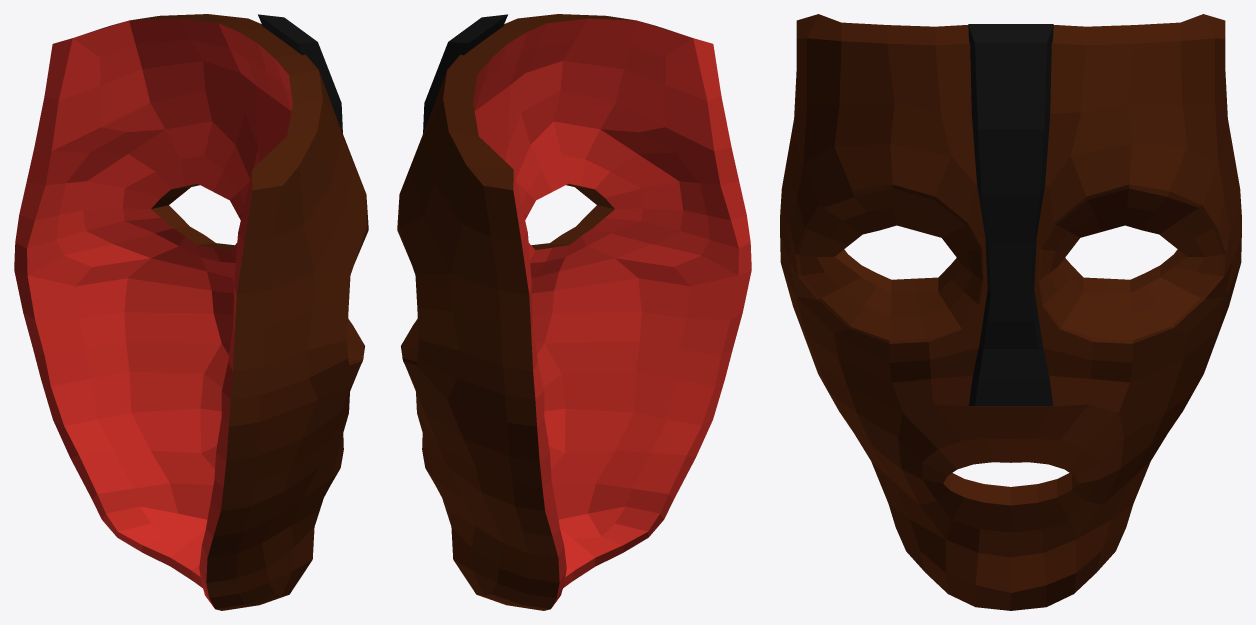
The picture shows the model from 3 angles, left to right: view 1: azimuth 30°, elevation 25°; view 2: azimuth 150°, elevation 25°; view 3: azimuth 270°, elevation 25°; orthographic projection. The views are drawn at different scales.
Visible parts, largest first — view 1: MASK_Cube.001 (×2), METAL_Cube; view 2: MASK_Cube.001 (×2), METAL_Cube; view 3: MASK_Cube.001, METAL_Cube.
Part boxes in pixels (left/top/right/bottom): MASK_Cube.001 (×2): left=14, top=14, right=368, bottom=610; METAL_Cube: left=258, top=14, right=342, bottom=133; MASK_Cube.001 (×2): left=397, top=14, right=751, bottom=610; METAL_Cube: left=423, top=14, right=507, bottom=133; MASK_Cube.001: left=780, top=14, right=1241, bottom=610; METAL_Cube: left=968, top=24, right=1053, bottom=405.
Size of the model in its own units: 0.8039 by 2 by 1.41.
